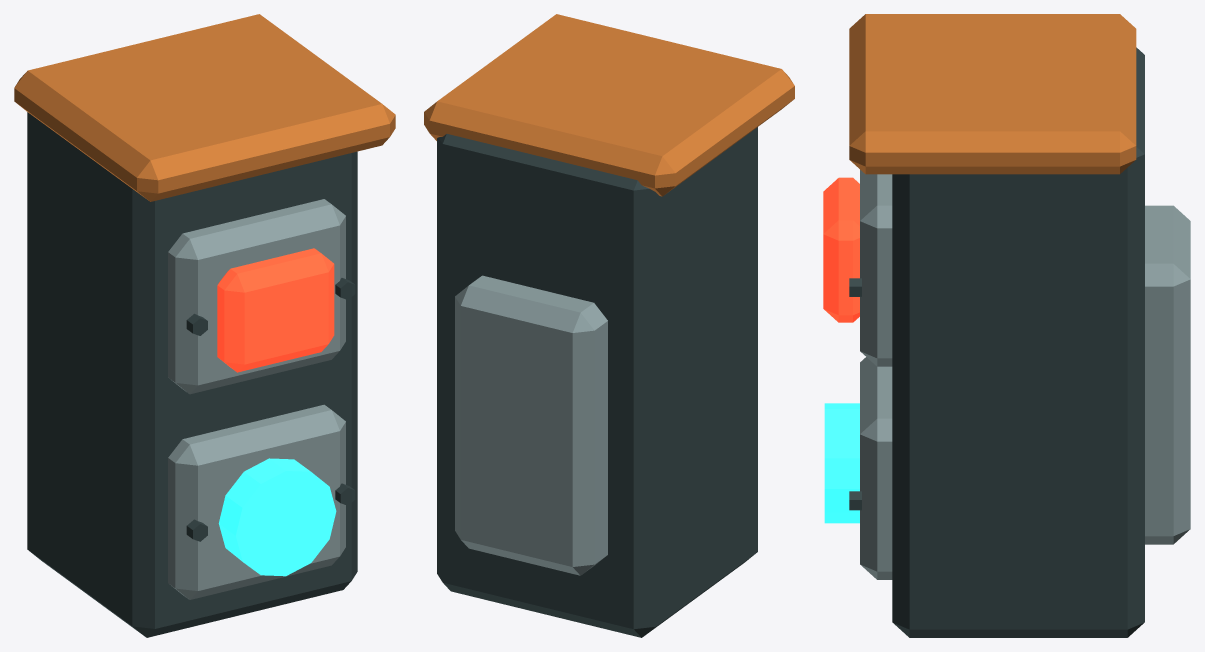
The model's file is e5b-alarm-signal.glb.
The picture shows the model from 3 angles, left to right: view 1: azimuth 30°, elevation 25°; view 2: azimuth 150°, elevation 25°; view 3: azimuth 270°, elevation 25°; orthographic projection. The views are drawn at different scales.
Parts seen in each view (by area): view 1: Brow light shroud, Slotted roof, Lens flange, Lens flange.001, Red square lens, Cyan round lens; view 2: Brow light shroud, Post bracket, Slotted roof; view 3: Brow light shroud, Slotted roof, Post bracket, Lens flange, Lens flange.001, Red square lens, Cyan round lens.
Part boxes in pixels (<box>): Brow light shroud: <box>27,112,357,637</box>; Slotted roof: <box>14,14,395,201</box>; Lens flange: <box>168,404,345,599</box>; Lens flange.001: <box>168,199,345,394</box>; Red square lens: <box>217,248,334,372</box>; Cyan round lens: <box>218,458,336,576</box>; Brow light shroud: <box>437,127,757,637</box>; Post bracket: <box>455,275,607,575</box>; Slotted roof: <box>424,14,794,196</box>; Brow light shroud: <box>892,47,1144,637</box>; Slotted roof: <box>849,14,1136,174</box>; Post bracket: <box>1145,205,1190,544</box>; Lens flange: <box>860,357,892,579</box>; Lens flange.001: <box>860,170,892,366</box>; Red square lens: <box>823,177,859,322</box>; Cyan round lens: <box>824,403,859,523</box>.
Bounding box in the file's own units: 0.54 × 0.9915 × 0.6405.
